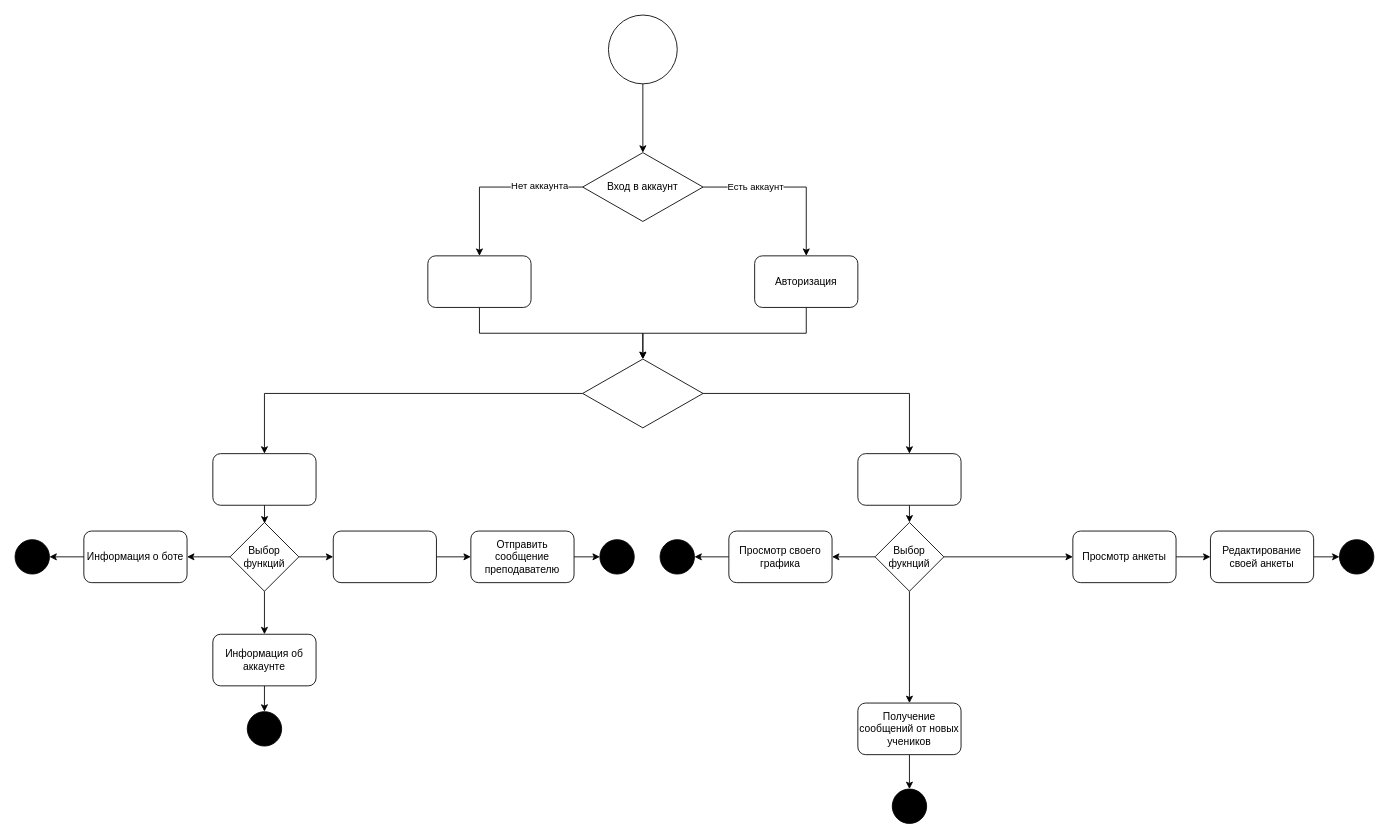
The diagram is 1389 pixels wide and 839 high, and some of its shapes have lost their labels. Here are the shapes that lost their labels. From the top down, the box of each, then its label:
(608, 14, 677, 84): Вход в бота
(427, 255, 531, 307): Регистрация
(582, 358, 703, 428): Идентификация
(212, 453, 316, 505): Ученик
(857, 453, 961, 505): Преподаватель
(332, 530, 436, 583): Установка фильтров
